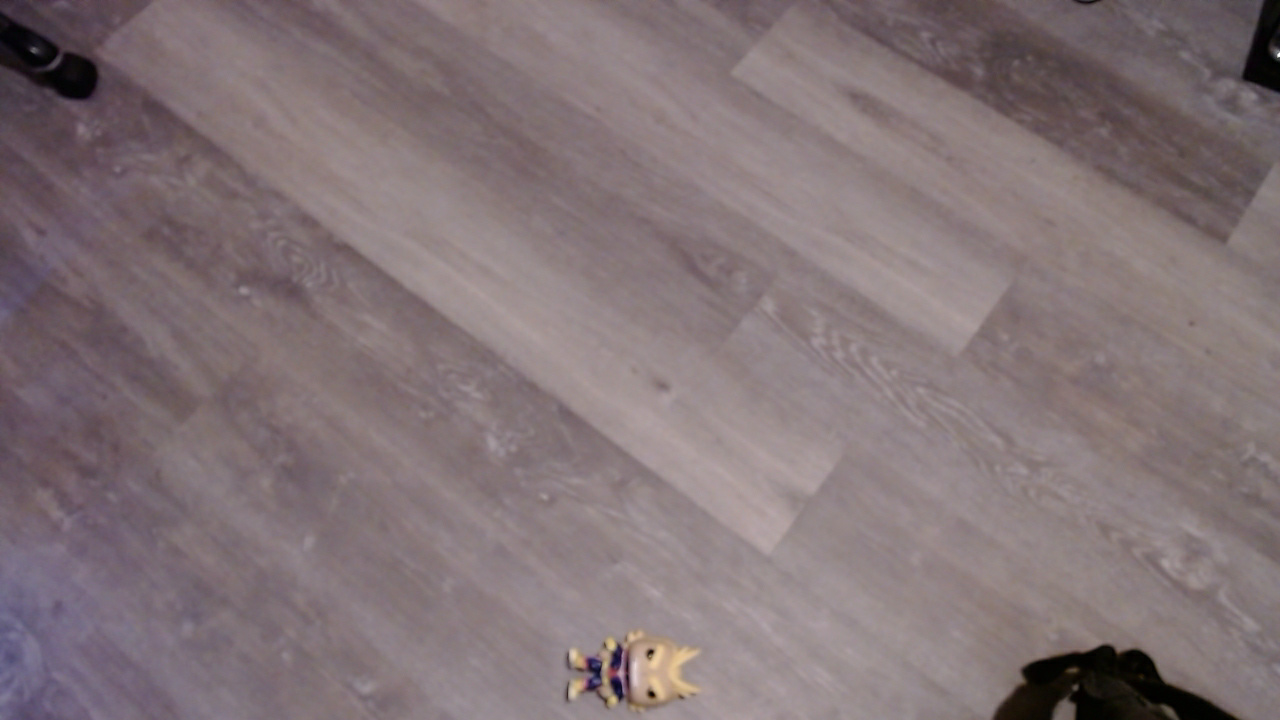all_might: (562, 628, 713, 720)
